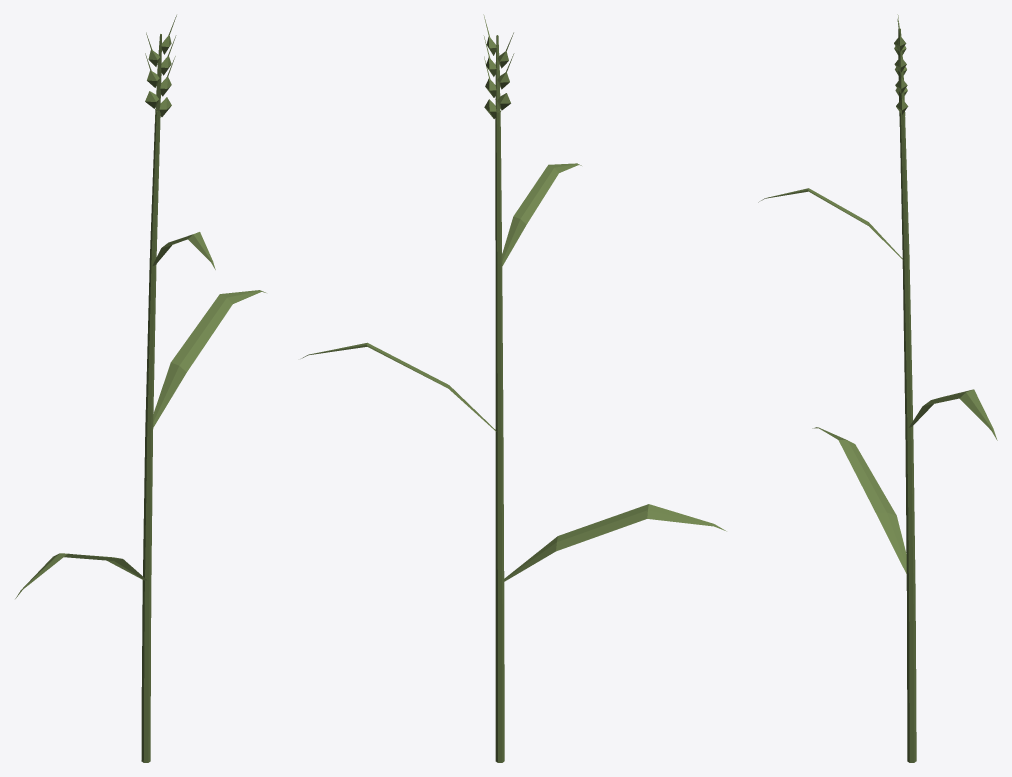
File: wheat_A.glb
3 views of the same model, side by side, from view 1: azimuth 30°, elevation 25°; view 2: azimuth 150°, elevation 25°; view 3: azimuth 270°, elevation 25° (orthographic). The views are drawn at different scales.
Parts seen in each view (by area): view 1: mesh_wheat_A; view 2: mesh_wheat_A; view 3: mesh_wheat_A.
Part boxes in pixels (x1=…): mesh_wheat_A: x1=15, y1=15, x2=265, y2=762; mesh_wheat_A: x1=301, y1=14, x2=726, y2=762; mesh_wheat_A: x1=758, y1=14, x2=997, y2=762.
Size of the model in its own units: 0.4821 by 0.995 by 0.2887.
